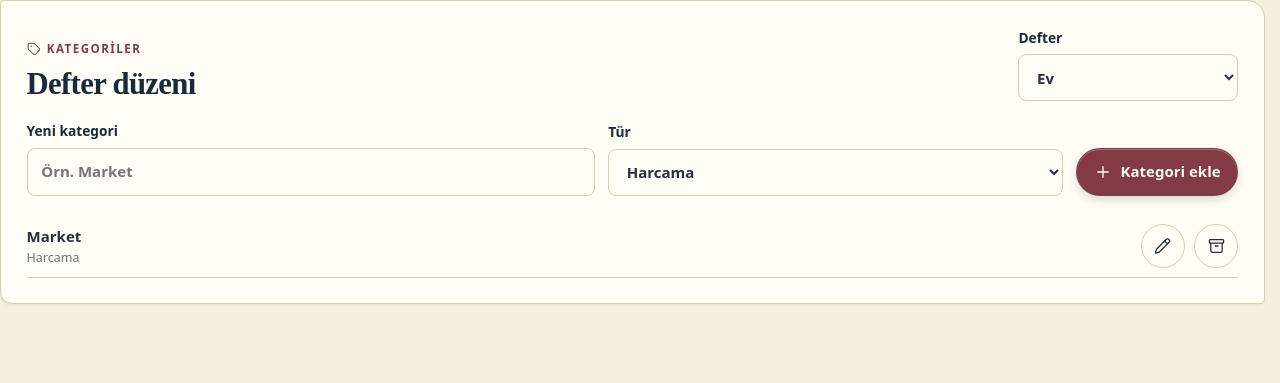
Scenario: category settings › blocks case-insensitive duplicates before the request
The image size is (1280, 383).
Type "market" into the field labelled "Yeni kategori" at (311, 172), box [27,148,595,196]
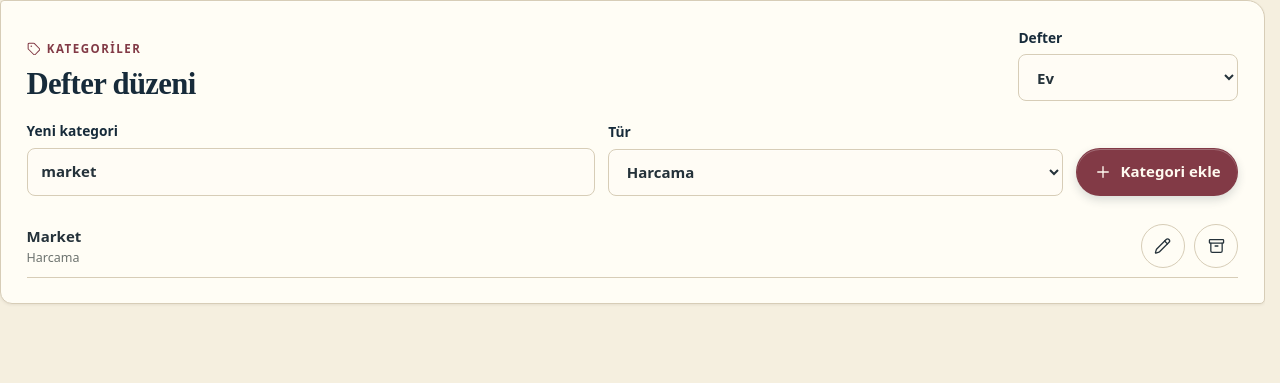
Click the button "Kategori ekle" at (1157, 172), box [1076,148,1238,196]
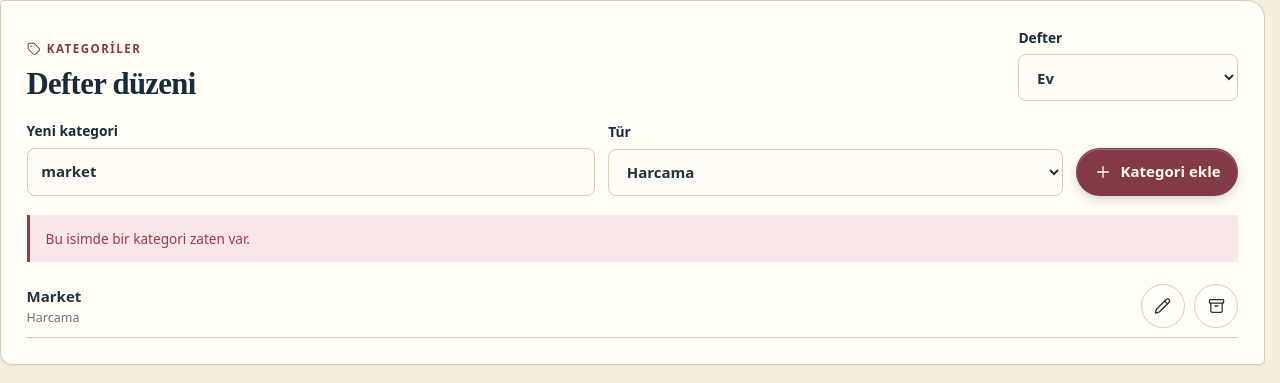
Check: the message reads "Bu isimde bir kategori zaten var.", box [46,229,250,248]
